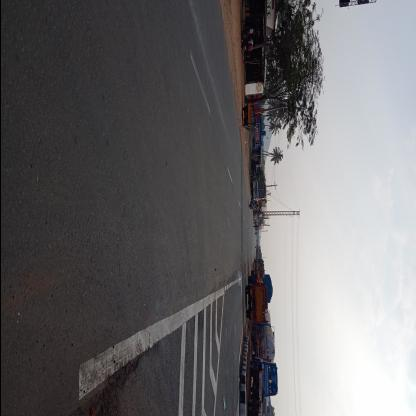speed-bumps: (237, 116, 245, 284)
